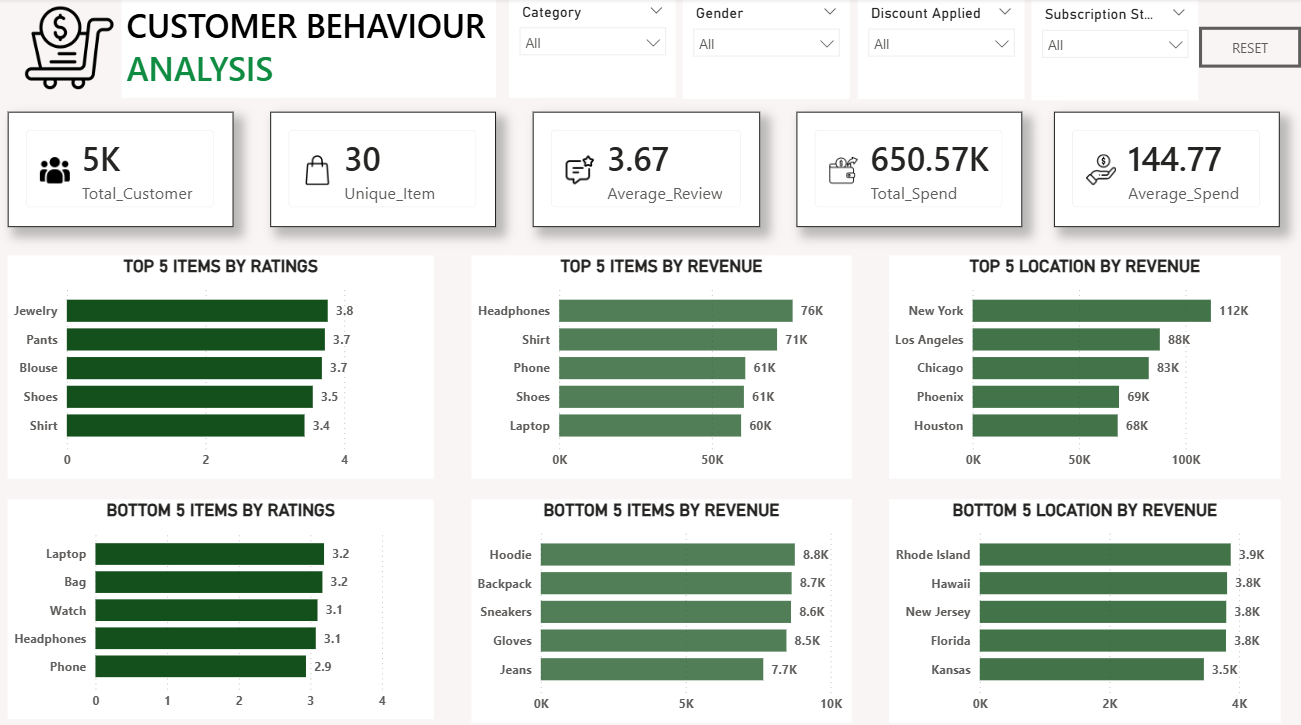

The dashboard page shown, as its layout file describes it:
{"tool":"powerbi","page":{"name":"Duplicate of Page 1","canvas":[1280,720],"ordinal":1},"visuals":[{"type":"textbox","box":[124.9,0,366.4,97.4],"z":0},{"type":"image","box":[0,0,146.8,97.4],"z":1000},{"type":"cardVisual","fields":{"Data":["customer_shopping_behavior.Total_Customer"]},"box":[13.7,111.1,220.9,112.5],"z":2000},{"type":"cardVisual","fields":{"Data":["customer_shopping_behavior.Unique_Item"]},"box":[270.3,111.1,220.9,112.5],"z":3000},{"type":"cardVisual","fields":{"Data":["customer_shopping_behavior.Average_Review"]},"box":[526.9,111.1,222.3,112.5],"z":4000},{"type":"cardVisual","fields":{"Data":["customer_shopping_behavior.Total_Spend"]},"box":[784.9,111.1,220.9,112.5],"z":5000},{"type":"cardVisual","fields":{"Data":["customer_shopping_behavior.Average_Spend"]},"box":[1037.4,111.1,220.9,112.5],"z":6000},{"type":"slicer","fields":{"Values":["customer_shopping_behavior.Category"]},"box":[503.6,0,163.3,97.4],"z":7000},{"type":"slicer","fields":{"Values":["customer_shopping_behavior.Gender"]},"box":[674.2,1.4,163.3,97.4],"z":8000},{"type":"slicer","fields":{"Values":["customer_shopping_behavior.Discount Applied"]},"box":[844.8,1.4,163.3,97.4],"z":9000},{"type":"slicer","fields":{"Values":["customer_shopping_behavior.Subscription Status"]},"box":[1015.4,2.7,163.3,97.4],"z":10000},{"type":"actionButton","box":[1178.3,28.3,100,40],"z":11000},{"type":"clusteredBarChart","title":"TOP 5 ITEMS BY RATINGS","fields":{"Category":["customer_shopping_behavior.Item Purchased"],"Y":["Avg(customer_shopping_behavior.Review Rating)"]},"box":[13.3,251.7,416.7,218.3],"z":12000},{"type":"clusteredBarChart","title":"BOTTOM 5 ITEMS BY RATINGS","fields":{"Category":["customer_shopping_behavior.Item Purchased"],"Y":["Avg(customer_shopping_behavior.Review Rating)"]},"box":[13.3,490,416.7,215],"z":13000},{"type":"barChart","title":"TOP 5 ITEMS BY REVENUE","fields":{"Category":["customer_shopping_behavior.Item Purchased"],"Y":["Sum(customer_shopping_behavior.Purchase Amount (USD))"]},"box":[466.7,251.7,371.7,218.3],"z":14000},{"type":"barChart","title":"BOTTOM 5 ITEMS BY REVENUE","fields":{"Category":["customer_shopping_behavior.Item Purchased"],"Y":["Sum(customer_shopping_behavior.Purchase Amount (USD))"]},"box":[466.7,490,371.7,218.3],"z":15000},{"type":"barChart","title":"TOP 5 LOCATION BY REVENUE","fields":{"Category":["customer_shopping_behavior.Location"],"Y":["Sum(customer_shopping_behavior.Purchase Amount (USD))"]},"box":[875,251.7,383.3,218.3],"z":16000},{"type":"barChart","title":"BOTTOM 5 LOCATION BY REVENUE","fields":{"Category":["customer_shopping_behavior.Location"],"Y":["Sum(customer_shopping_behavior.Purchase Amount (USD))"]},"box":[875,490,383.3,218.3],"z":17000}]}

Visuals, with their boxes in screenshot pixels (x1, y1, x2, y2), scaled from the page's 1280x720 canvas onto the 1301x725 screenshot:
textbox: [127, 0, 499, 98]
image: [0, 0, 149, 98]
cardVisual - customer_shopping_behavior.Total_Customer: [14, 112, 238, 225]
cardVisual - customer_shopping_behavior.Unique_Item: [275, 112, 499, 225]
cardVisual - customer_shopping_behavior.Average_Review: [536, 112, 761, 225]
cardVisual - customer_shopping_behavior.Total_Spend: [798, 112, 1022, 225]
cardVisual - customer_shopping_behavior.Average_Spend: [1054, 112, 1279, 225]
slicer - customer_shopping_behavior.Category: [512, 0, 678, 98]
slicer - customer_shopping_behavior.Gender: [685, 1, 851, 99]
slicer - customer_shopping_behavior.Discount Applied: [859, 1, 1025, 99]
slicer - customer_shopping_behavior.Subscription Status: [1032, 3, 1198, 101]
actionButton: [1198, 28, 1299, 69]
"TOP 5 ITEMS BY RATINGS" clusteredBarChart: [14, 253, 437, 473]
"BOTTOM 5 ITEMS BY RATINGS" clusteredBarChart: [14, 493, 437, 710]
"TOP 5 ITEMS BY REVENUE" barChart: [474, 253, 852, 473]
"BOTTOM 5 ITEMS BY REVENUE" barChart: [474, 493, 852, 713]
"TOP 5 LOCATION BY REVENUE" barChart: [889, 253, 1279, 473]
"BOTTOM 5 LOCATION BY REVENUE" barChart: [889, 493, 1279, 713]
